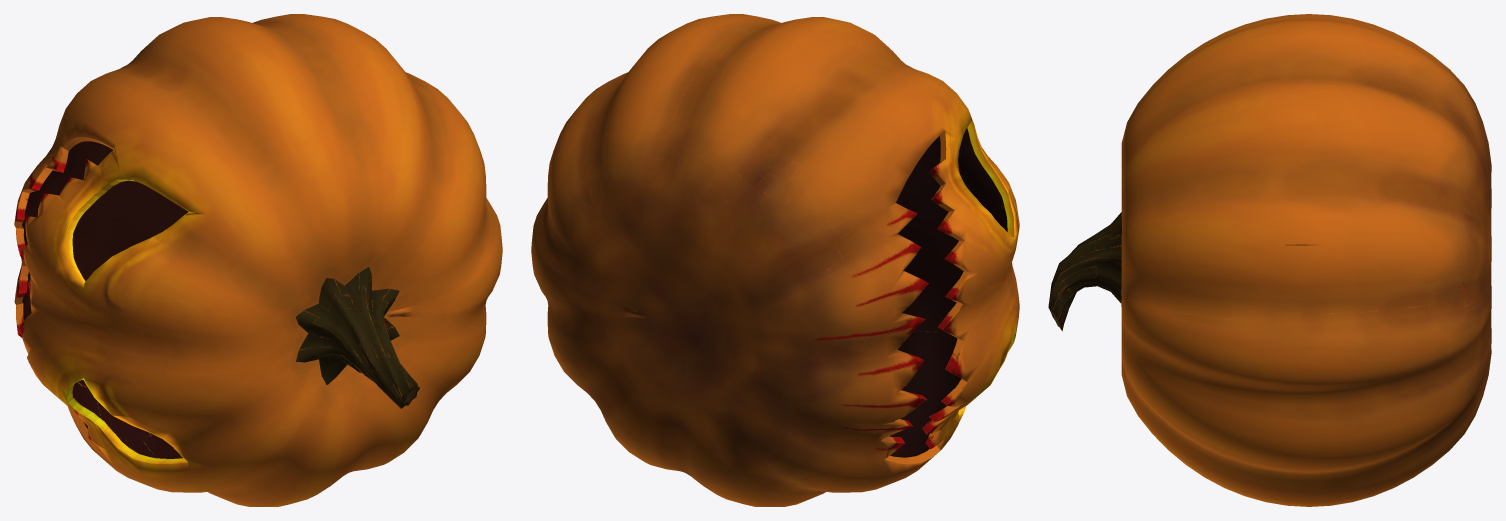
The model's file is JackO.obj.
3 renders of one model, left to right at view 1: azimuth 30°, elevation 25°; view 2: azimuth 150°, elevation 25°; view 3: azimuth 270°, elevation 25°, orthographic.
Parts seen in each view (by area): view 1: Sphere.001_0; view 2: Sphere.001_0; view 3: Sphere.001_0.
Part boxes in pixels (box(x1,y1,x2,y2)): Sphere.001_0: box(14, 14, 502, 506); Sphere.001_0: box(531, 14, 1019, 506); Sphere.001_0: box(1048, 14, 1491, 506).
Bounding box in the file's own units: 1.57 × 1.58 × 1.42.
Materials: 1 (1 with a texture image).
